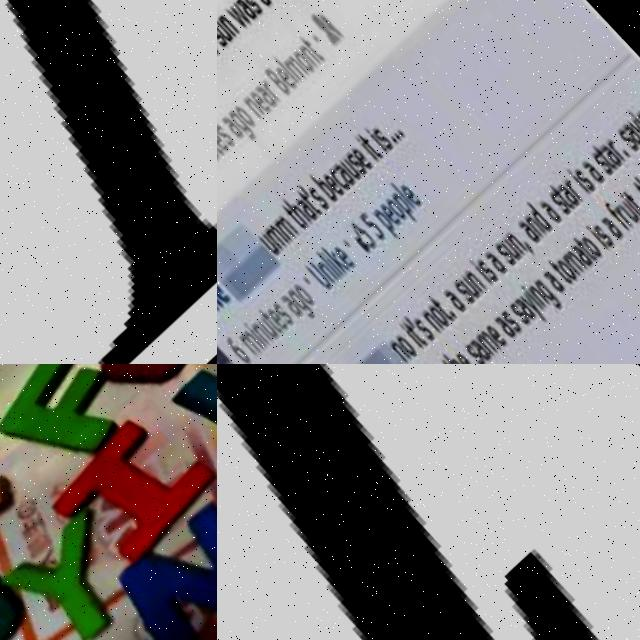1: (0, 0, 217, 364), (352, 209, 384, 241)
2: (217, 333, 246, 363)
F: (0, 364, 149, 497)
I: (39, 397, 217, 579)
N: (87, 491, 217, 640)
V: (160, 364, 217, 471)
Y: (0, 498, 151, 640)
Z: (217, 364, 620, 640)
